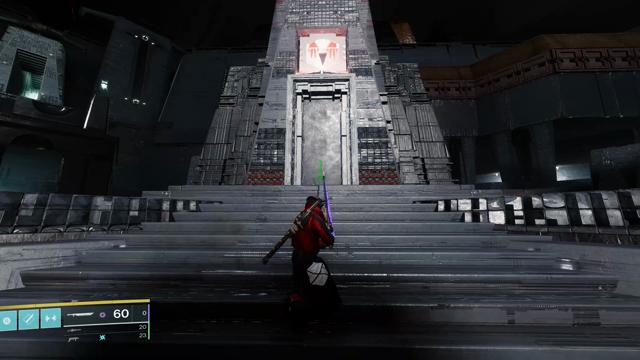give: (307, 39, 339, 69)
